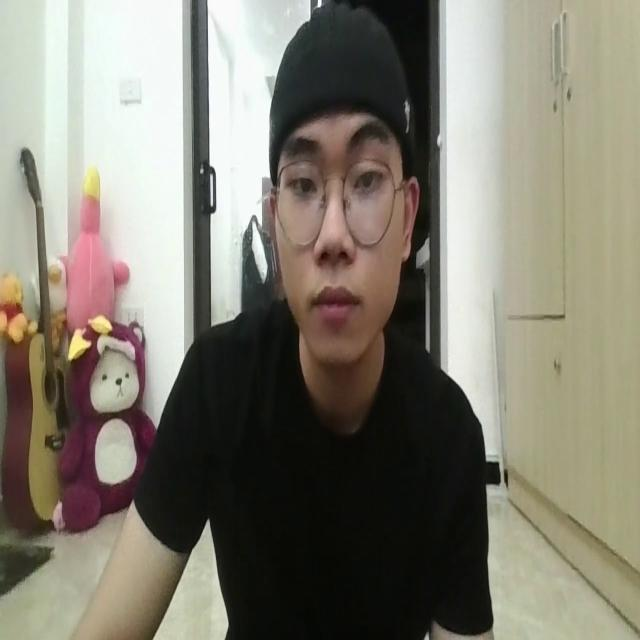student: (80, 1, 490, 640)
